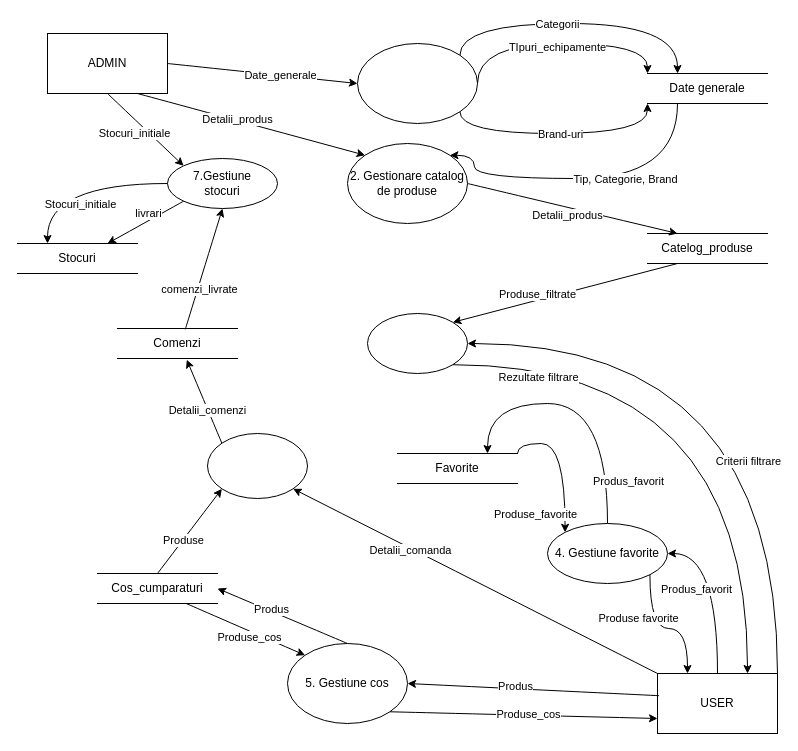
Some shapes in this 798 by 751 pixel diagram are drawn without their labels. Each missing label, with the centre of its shape:
1. Gestionare date generale: (417,83)
3.Filtrare produse: (417,343)
6. Gestiune comenzi: (257,465)
